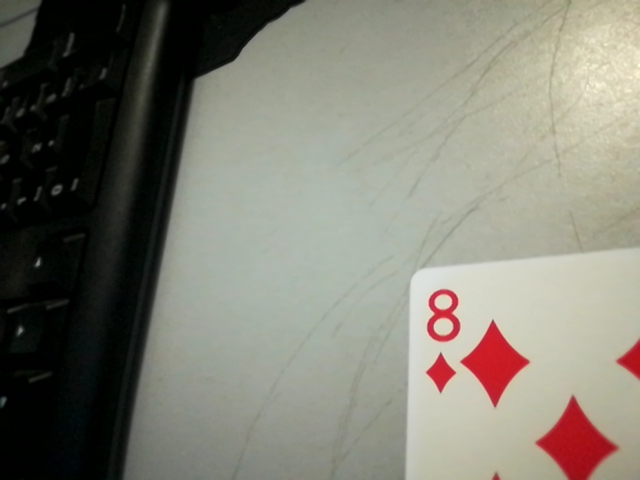fk 8: (412, 280, 470, 399)
